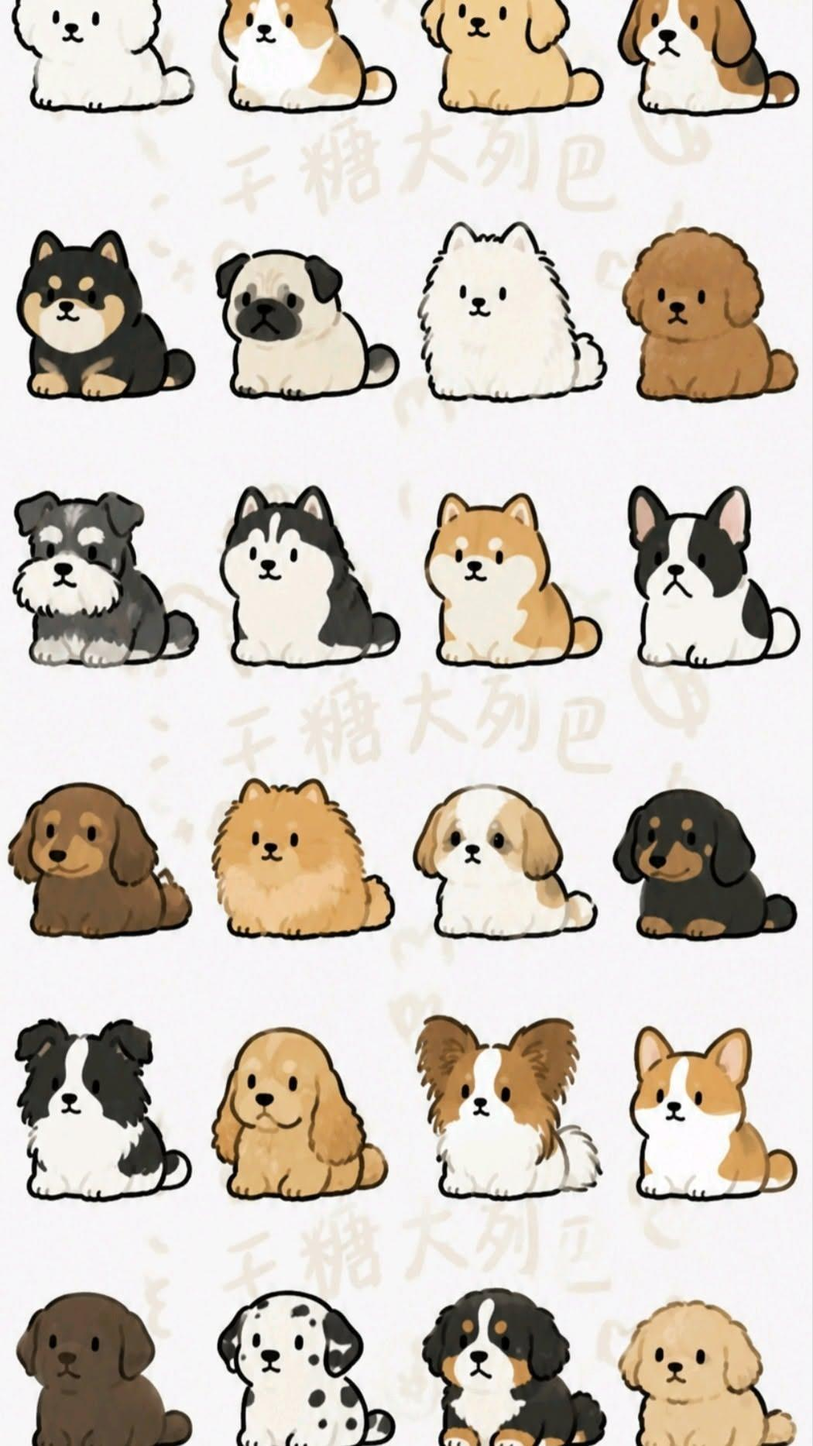non-dog: (416, 1014, 604, 1202), (418, 222, 608, 404), (219, 486, 401, 671), (13, 491, 199, 671), (15, 1017, 194, 1203), (627, 485, 803, 671), (424, 493, 603, 669), (212, 1026, 389, 1203), (623, 228, 801, 403), (628, 1025, 798, 1203), (19, 232, 197, 401), (213, 780, 396, 941), (413, 784, 599, 942), (422, 1288, 608, 1446), (9, 782, 193, 941), (613, 788, 799, 943), (215, 249, 400, 403), (218, 1290, 396, 1446), (15, 1291, 194, 1446), (618, 1299, 798, 1446), (419, 1, 604, 117), (619, 1, 801, 118), (219, 0, 396, 114), (13, 1, 194, 112)
